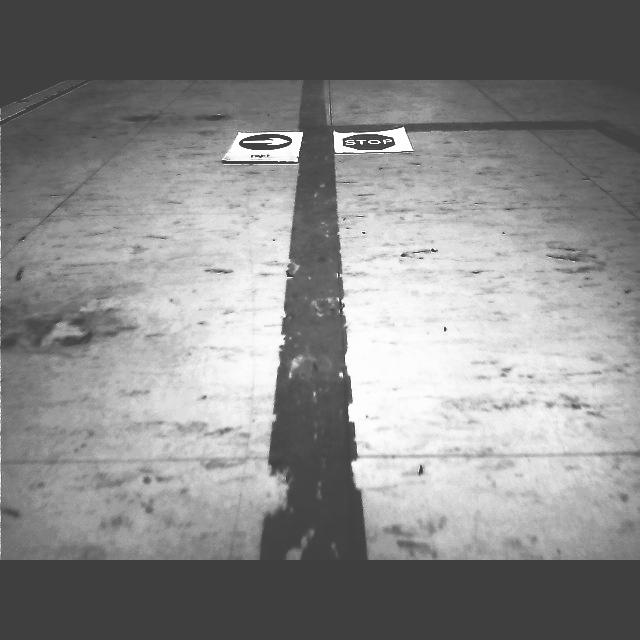STOP: (343, 134, 395, 150)
TURN RIGHT: (240, 133, 293, 150)
